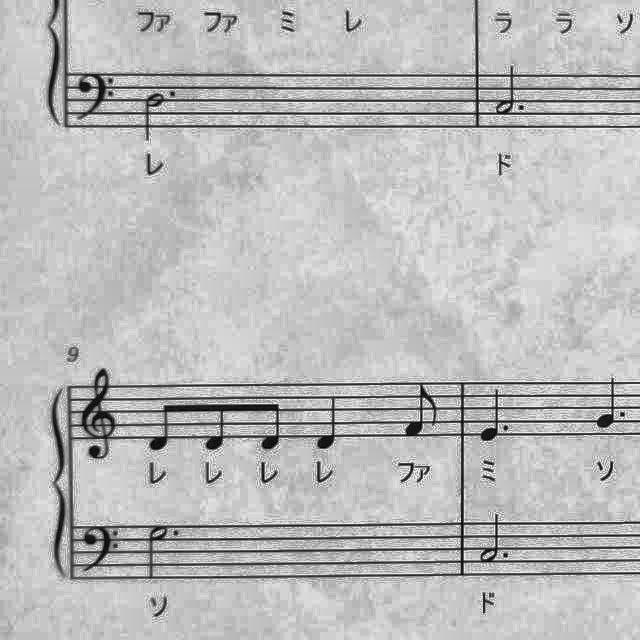Bass-clef: (76, 521, 124, 583), (72, 68, 116, 124)
Eighth-note: (401, 381, 444, 444), (144, 397, 180, 457), (198, 398, 234, 458), (257, 396, 291, 456)
Half-dot: (139, 518, 185, 586), (137, 84, 181, 146), (488, 62, 530, 118), (476, 515, 514, 569)
Quarter-dot: (476, 384, 520, 456), (587, 368, 633, 436)
Quarter-note: (310, 394, 346, 454)
Treble-clef: (74, 363, 122, 467)
